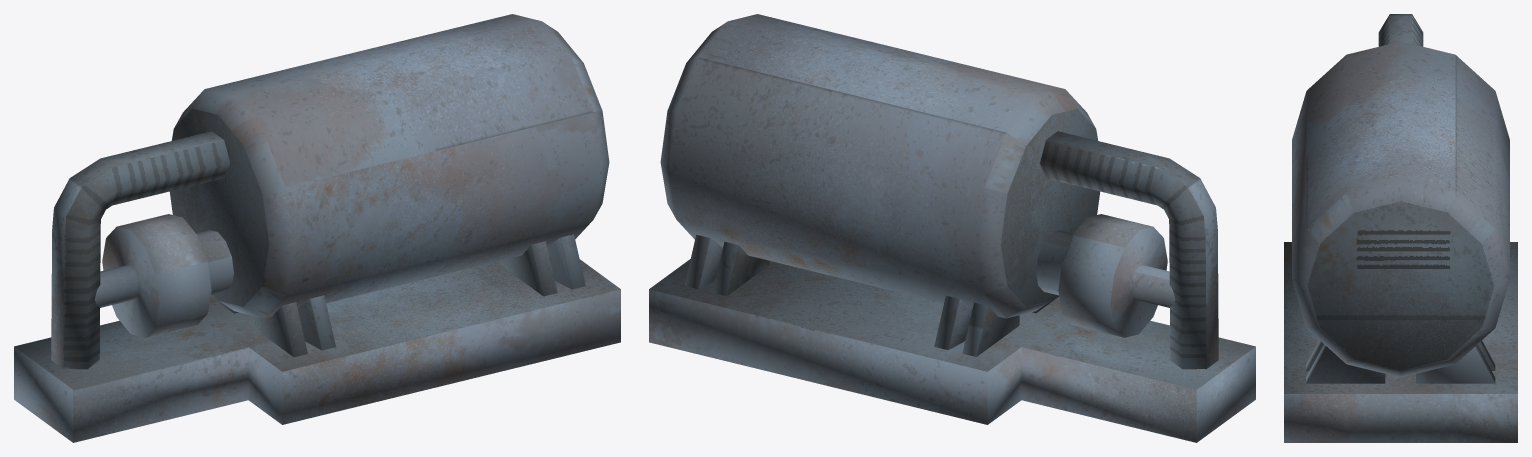
Rendered from boiler.glb.
3 renders of one model, left to right at view 1: azimuth 30°, elevation 25°; view 2: azimuth 150°, elevation 25°; view 3: azimuth 270°, elevation 25°, orthographic. The views are drawn at different scales.
Visible parts, largest first — view 1: Cylinder; view 2: Cylinder; view 3: Cylinder.
Boxes of the visible parts, x1,y1,x2,y2 form: Cylinder: (14, 14, 620, 442); Cylinder: (649, 14, 1255, 442); Cylinder: (1284, 14, 1517, 442).
Size of the model in its own units: 10.03 by 5.18 by 4.29.
1 material, 1 textured.
